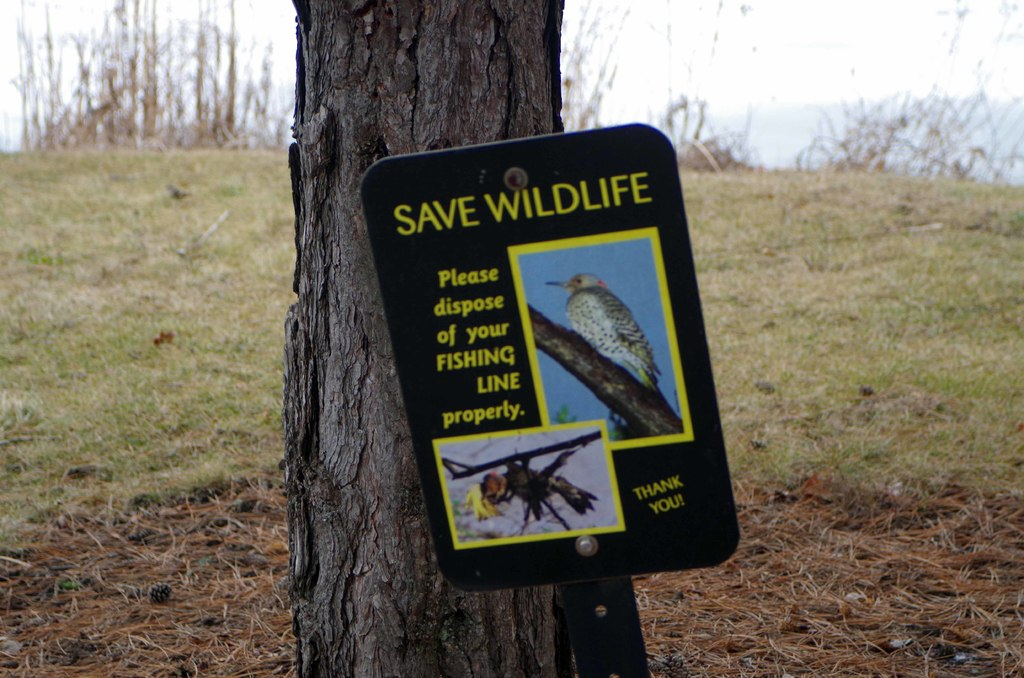Bird: (546, 274, 662, 394), (468, 466, 598, 522)
